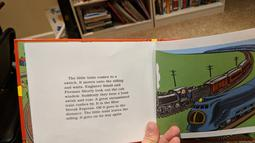text block: (59, 72, 135, 122)
